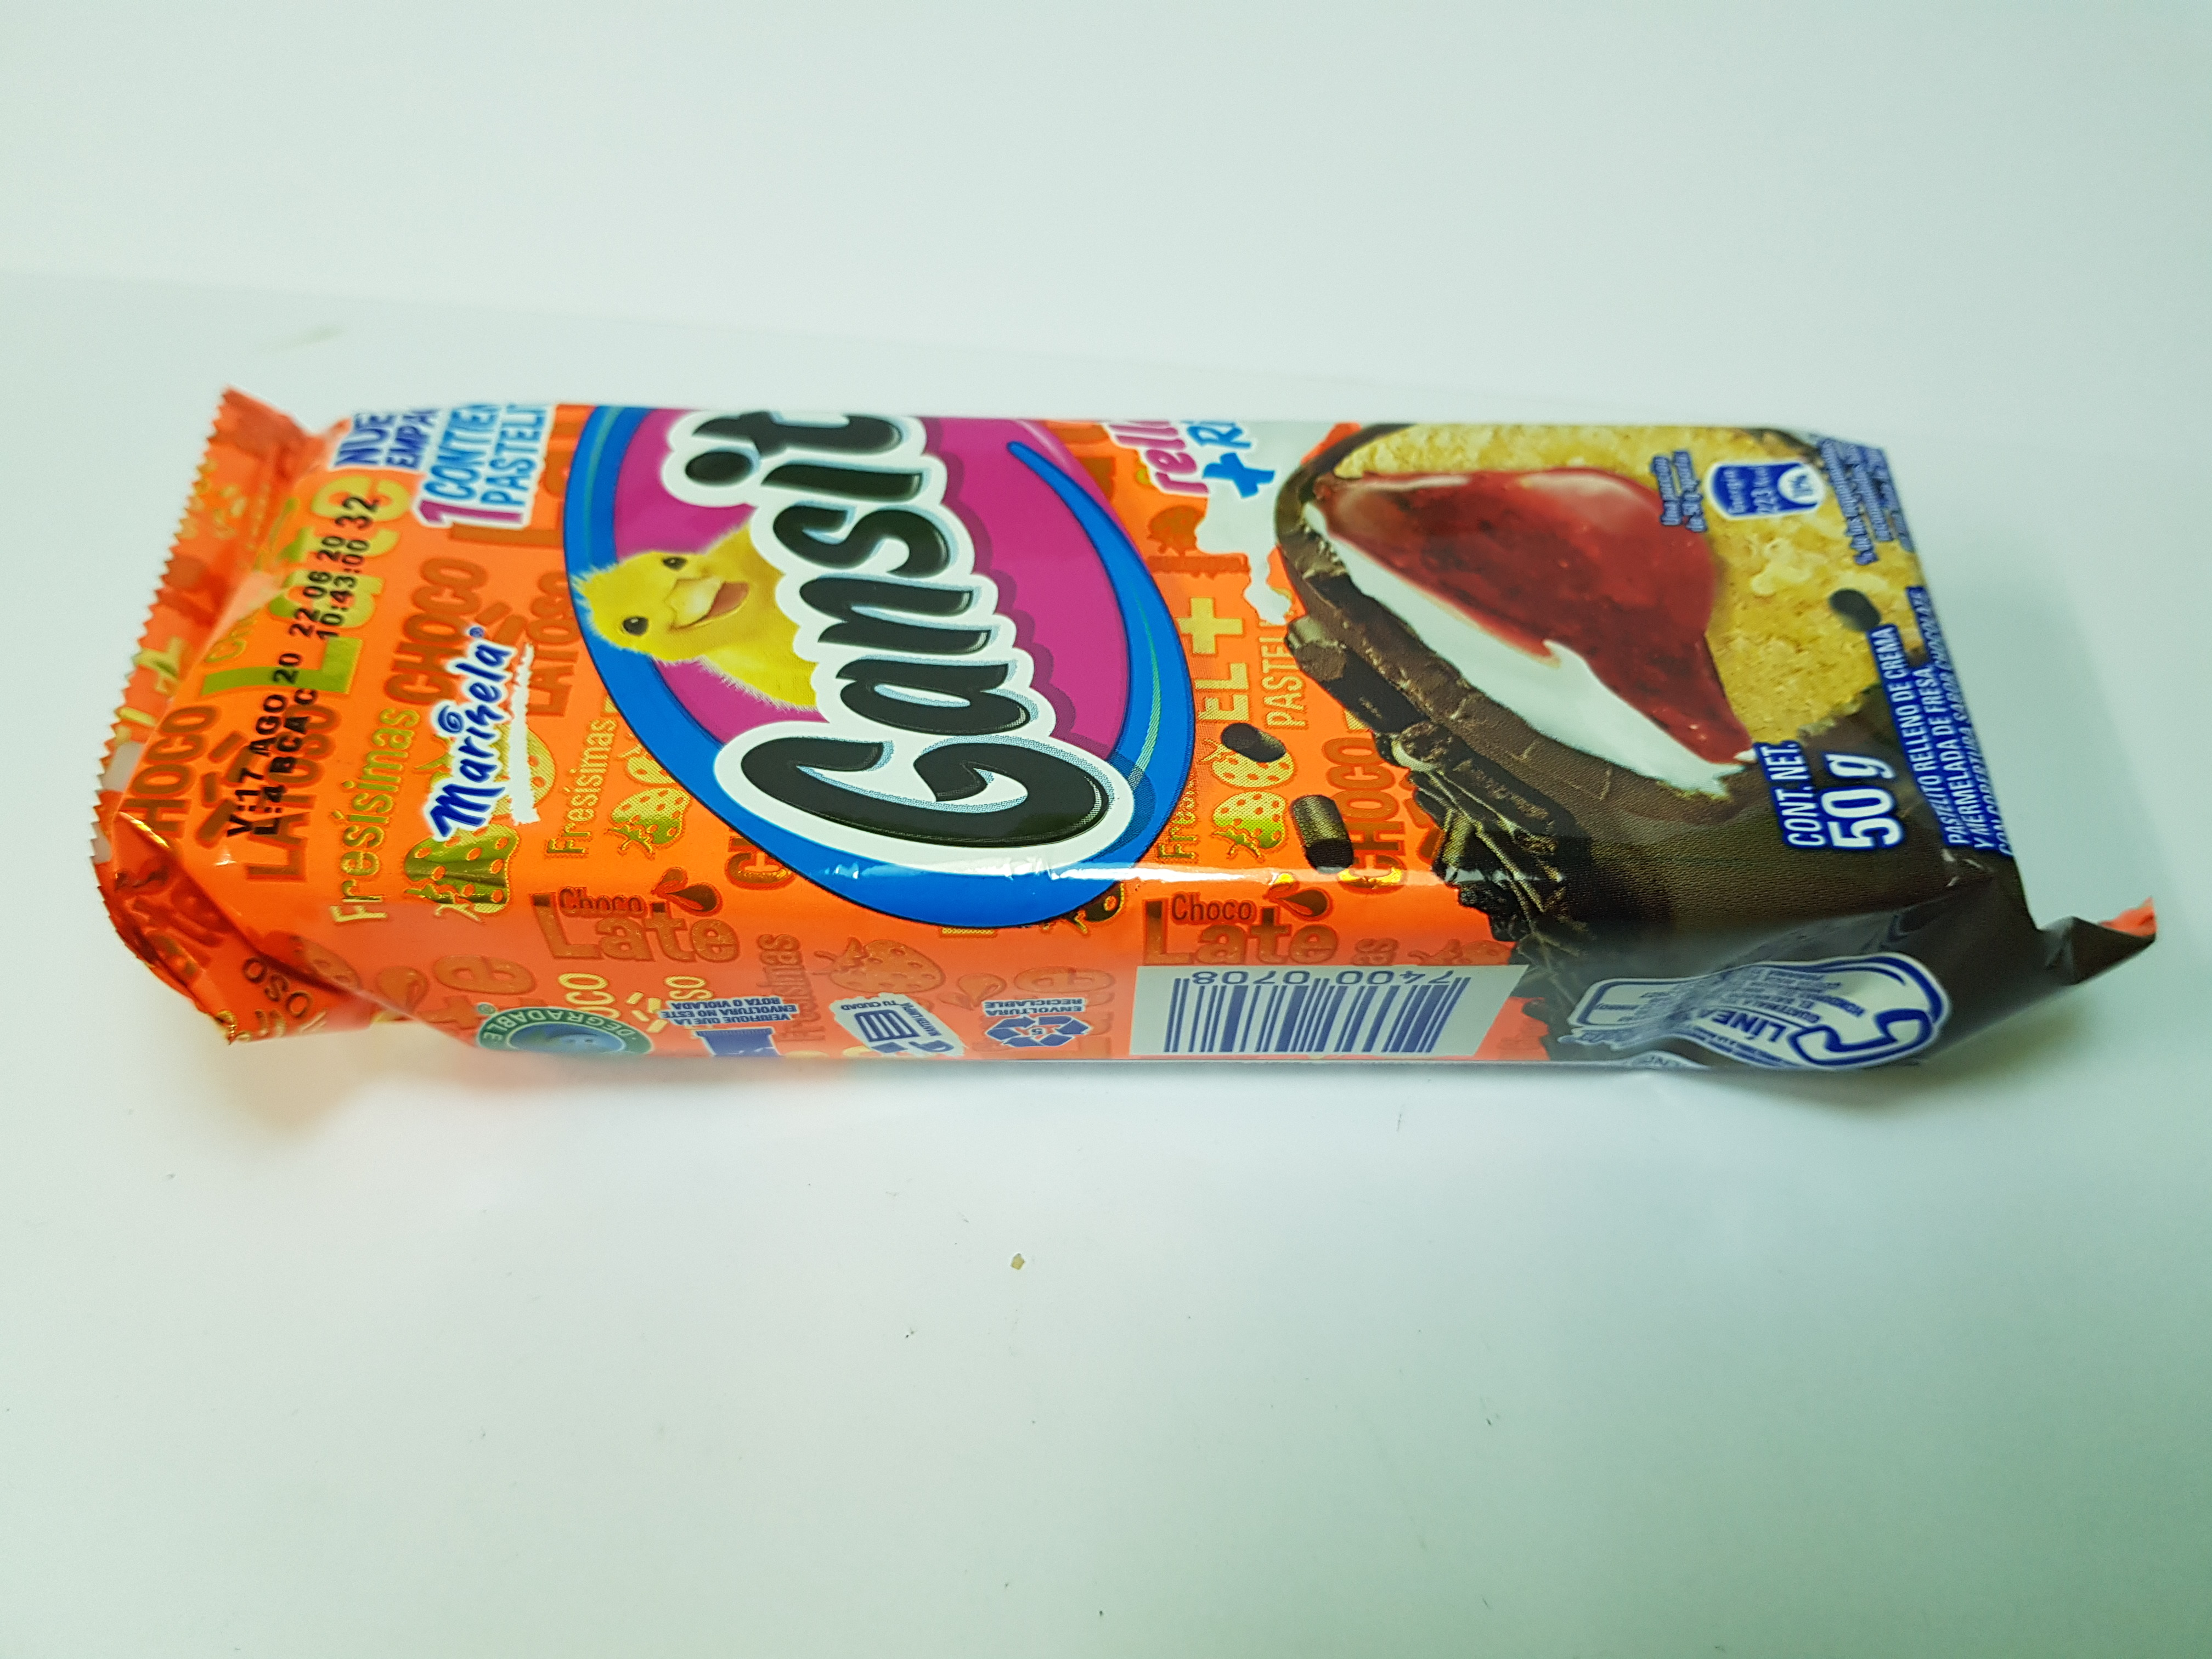gansito: (73, 382, 2160, 1091)
